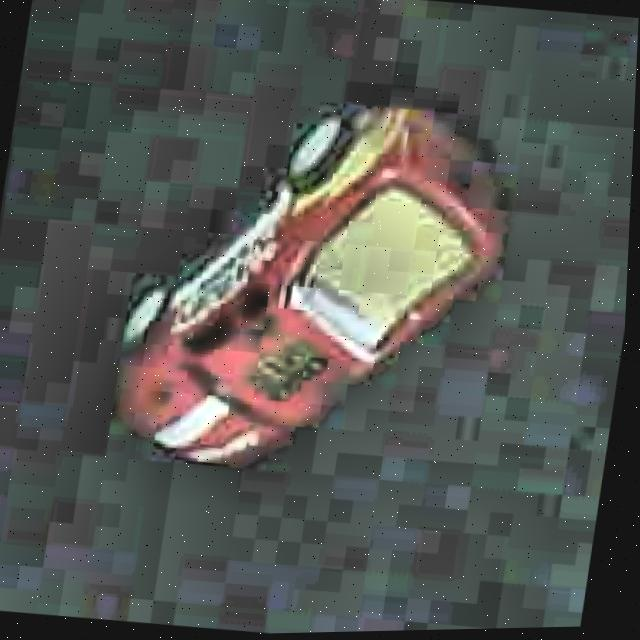car: (96, 74, 528, 502)
